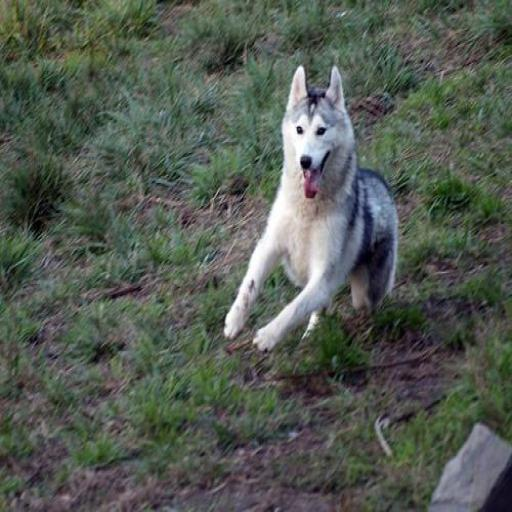dog_face: (275, 69, 351, 190)
